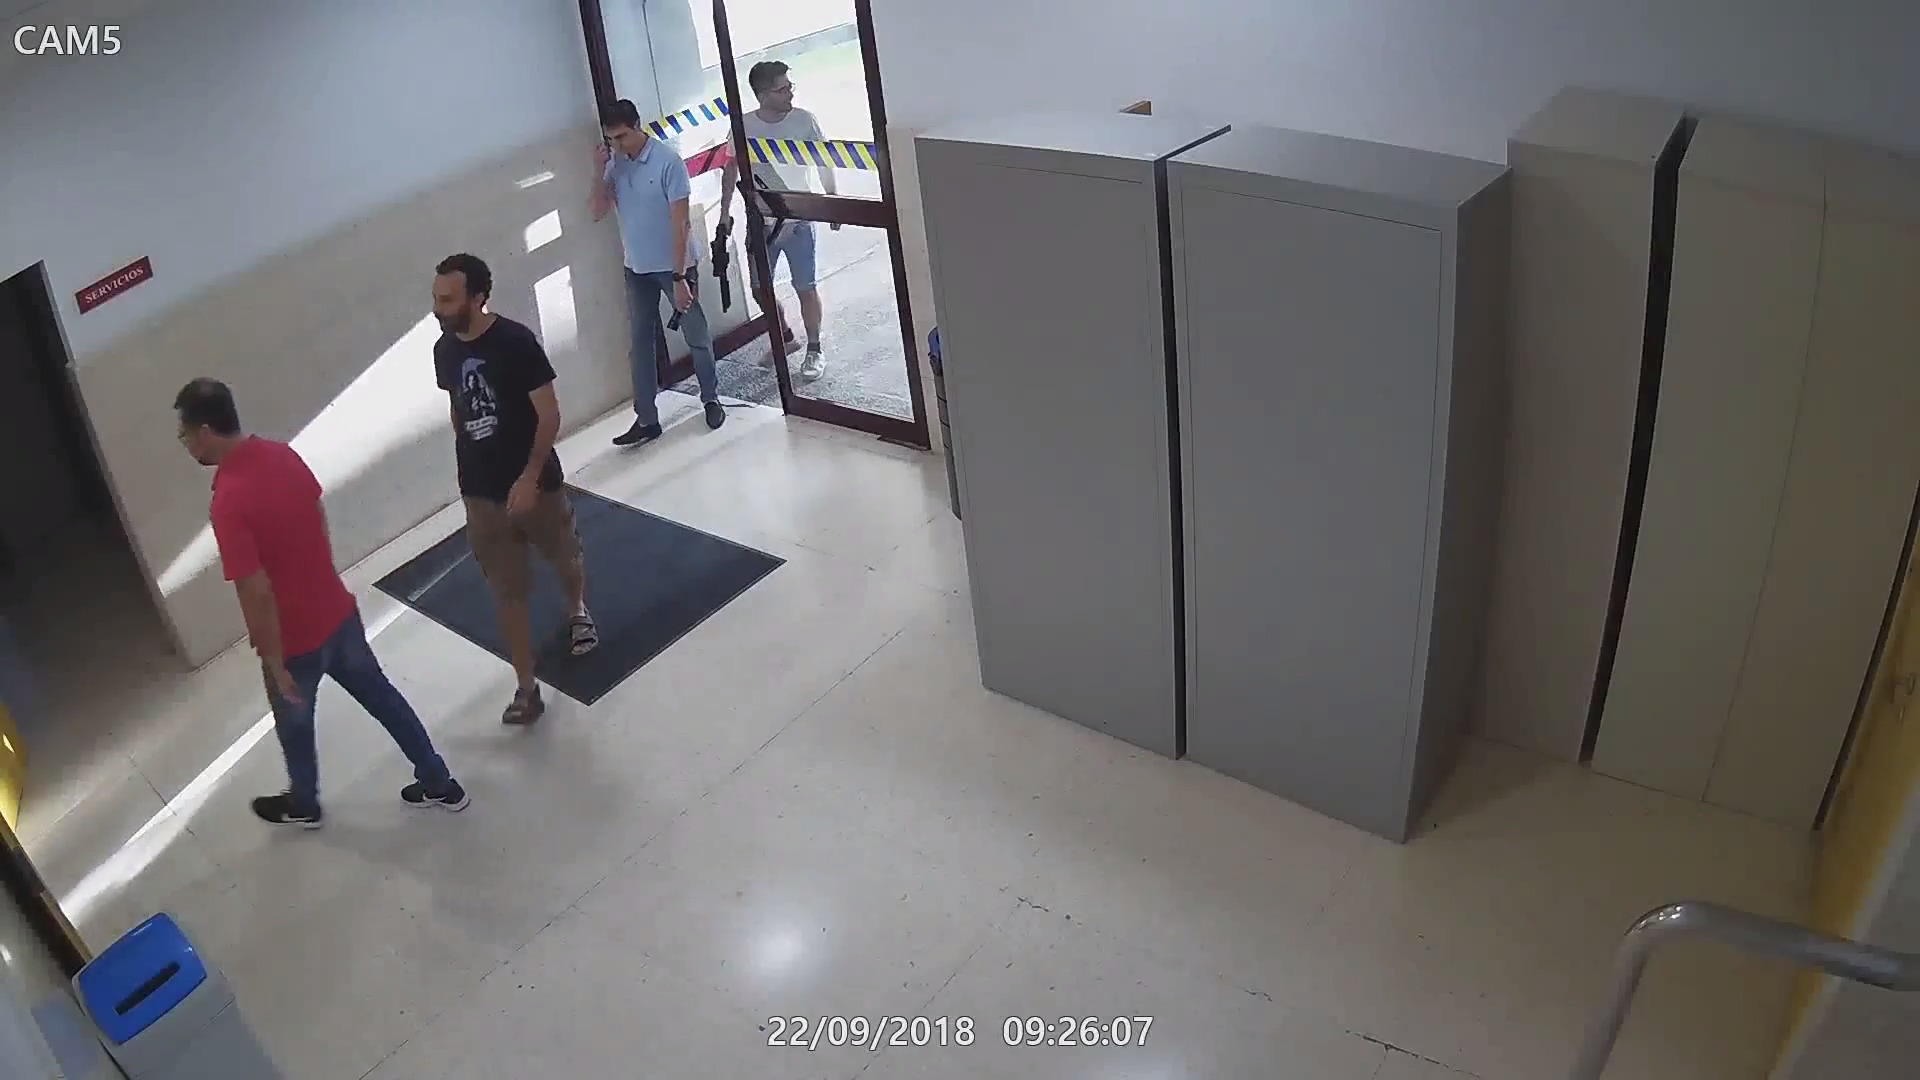Short_rifle: (709, 210, 737, 316)
